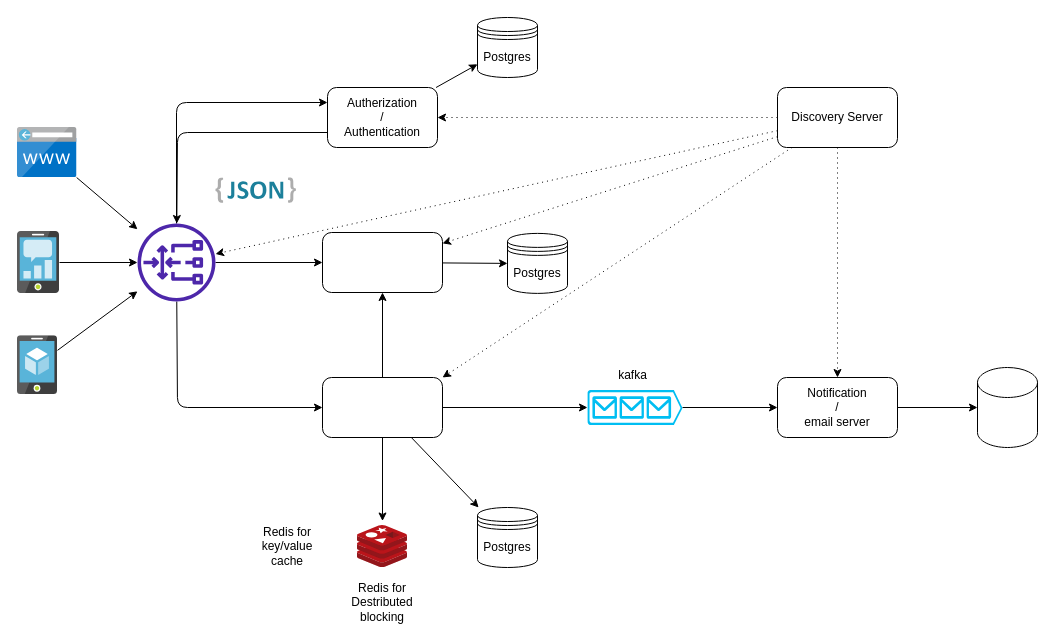
This 1055x641 diagram has some shape labels left out. Each missing label, with the box of its shape:
Management: (322, 232, 442, 292)
Mongo: (976, 366, 1038, 448)
Reservation: (322, 376, 442, 438)
